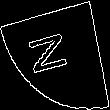N_E: (30, 30, 80, 80)
